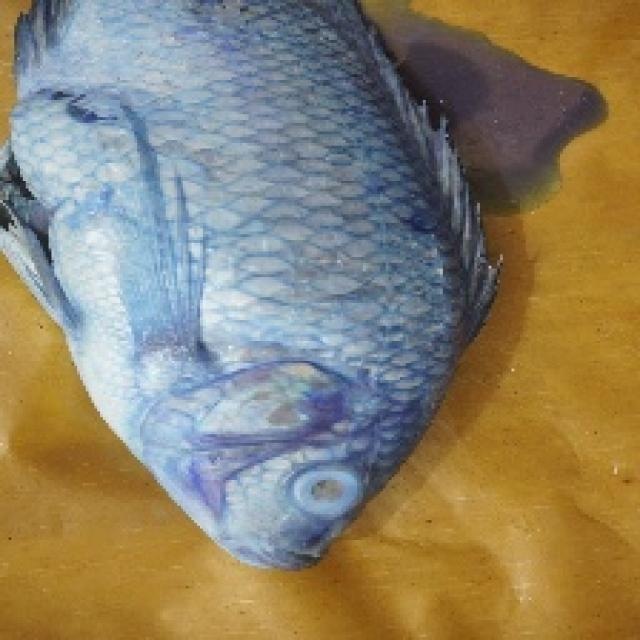Non-Fresh: (53, 49, 484, 453), (280, 449, 377, 524)
